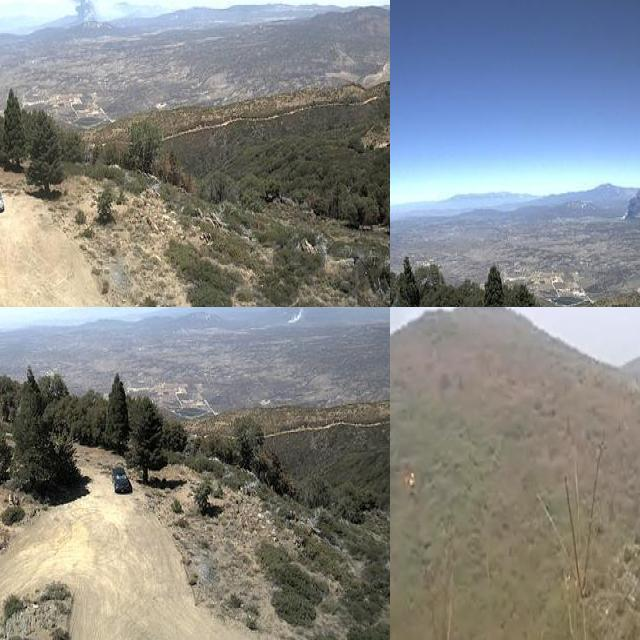smoke: (203, 307, 349, 325), (614, 151, 640, 226), (56, 0, 106, 27)
